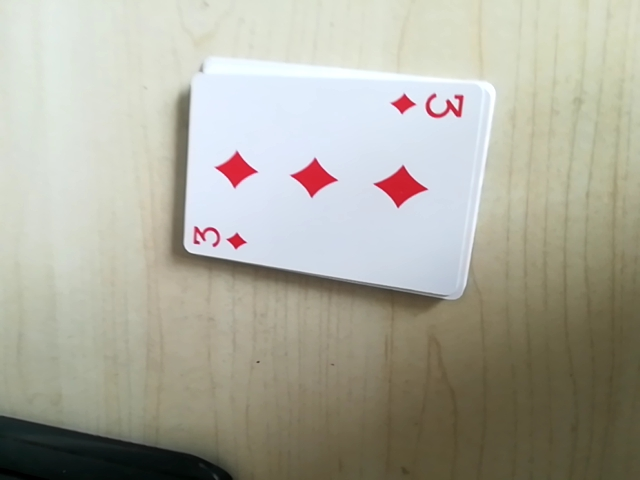fk 3: (389, 83, 472, 130), (183, 220, 251, 255)
